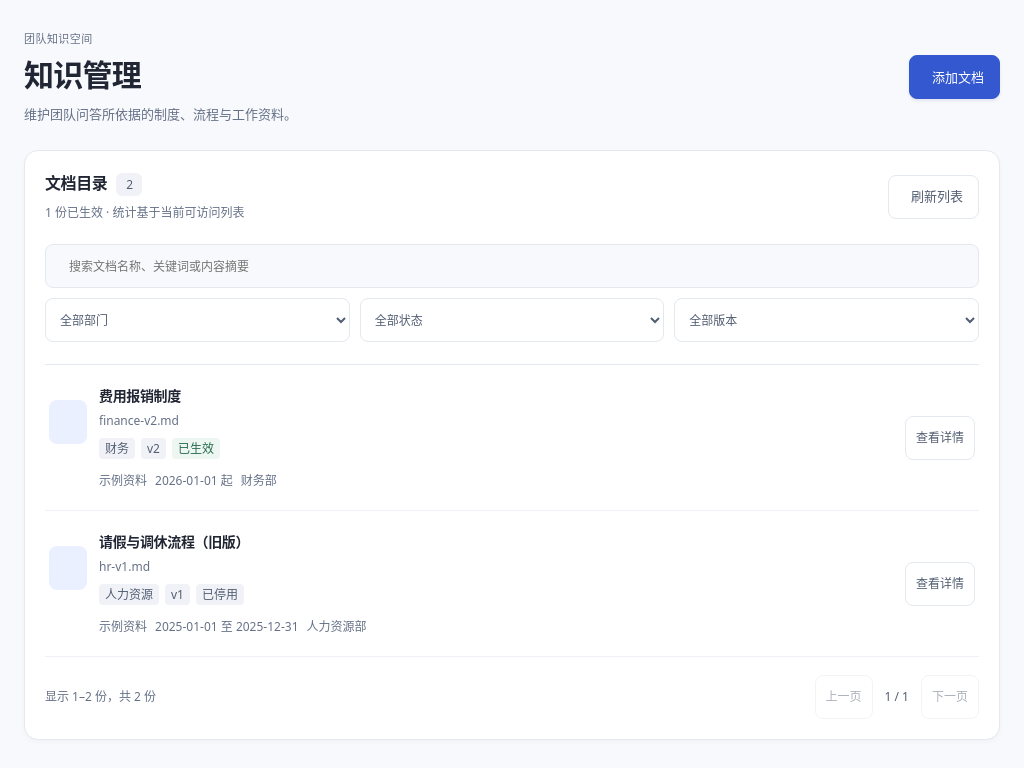
Scenario: KnowledgeView › retries a failed detail request and ignores a closed drawer response
Click the button with class "document-details-button" in the row of "finance-v2.md". click: (940, 438)
box: [905, 416, 975, 460]
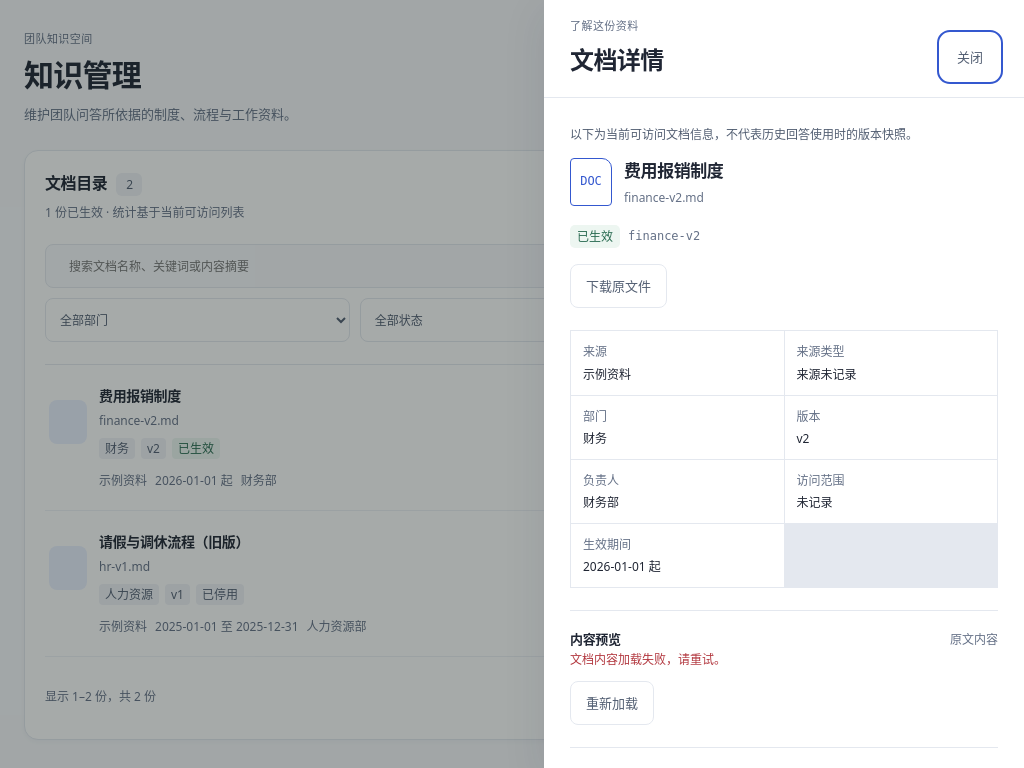
Now the message "文档内容加载失败，请重试。 重新加载" is shown, box [570, 651, 726, 725]
Click the button "重新加载". click: (612, 703)
box: [570, 681, 654, 725]
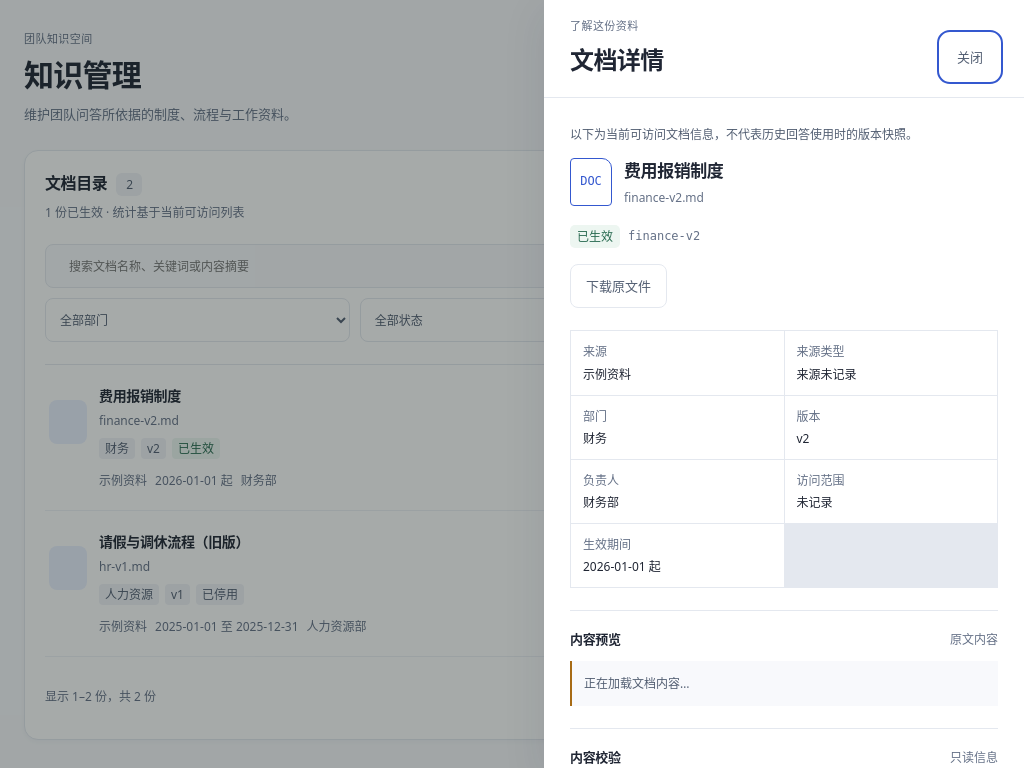
Now the message "正在加载文档内容…" is shown, box [570, 661, 998, 706]
Click the button "关闭". click: (970, 57)
box: [942, 35, 998, 79]
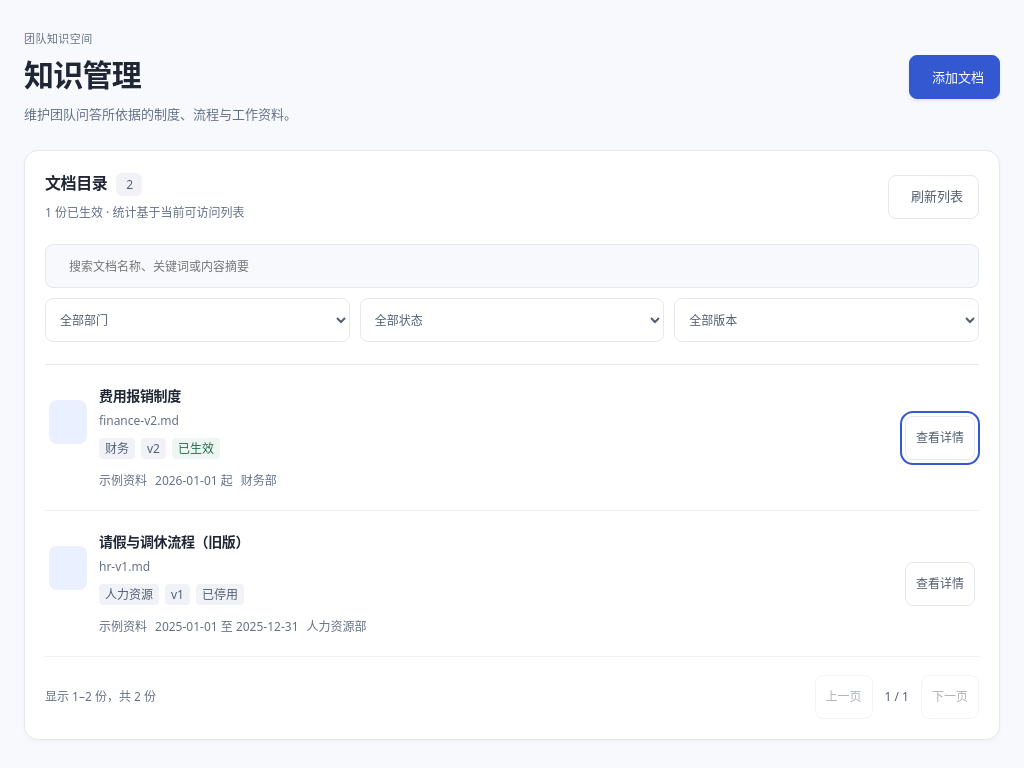
Now the dialog with class "open" is gone
Click the button with class "document-details-button" in the row of "finance-v2.md". click: (940, 438)
box: [905, 416, 975, 460]
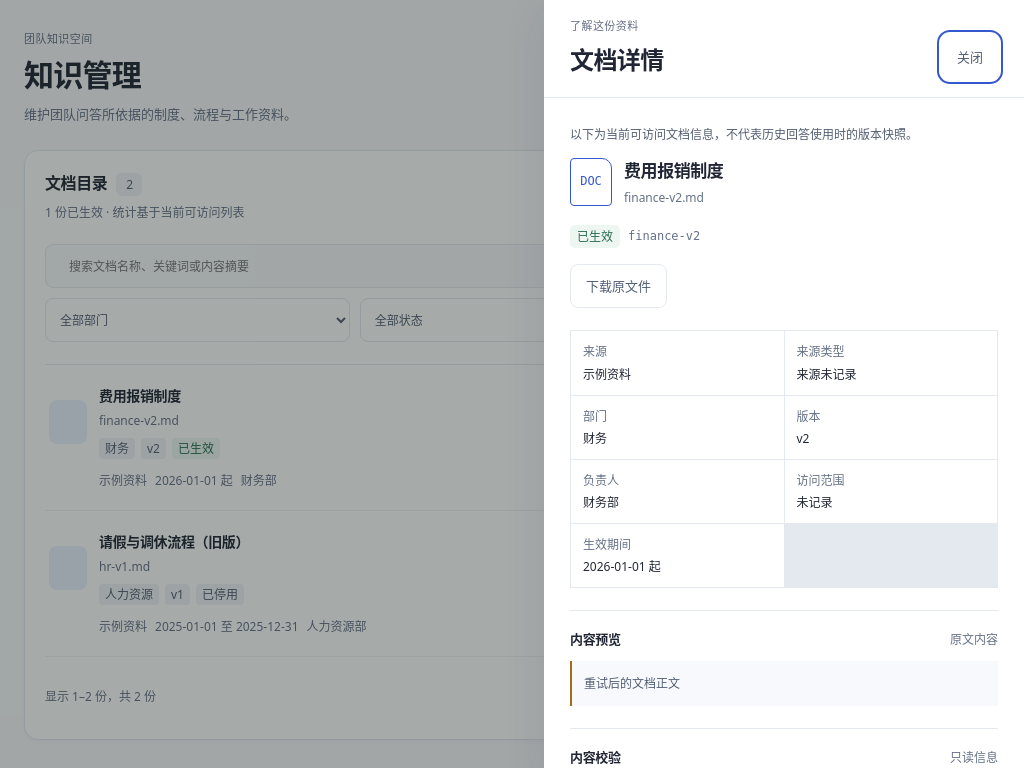
Now the element with class "detail-preview" shows "重试后的文档正文", box [584, 675, 680, 692]
